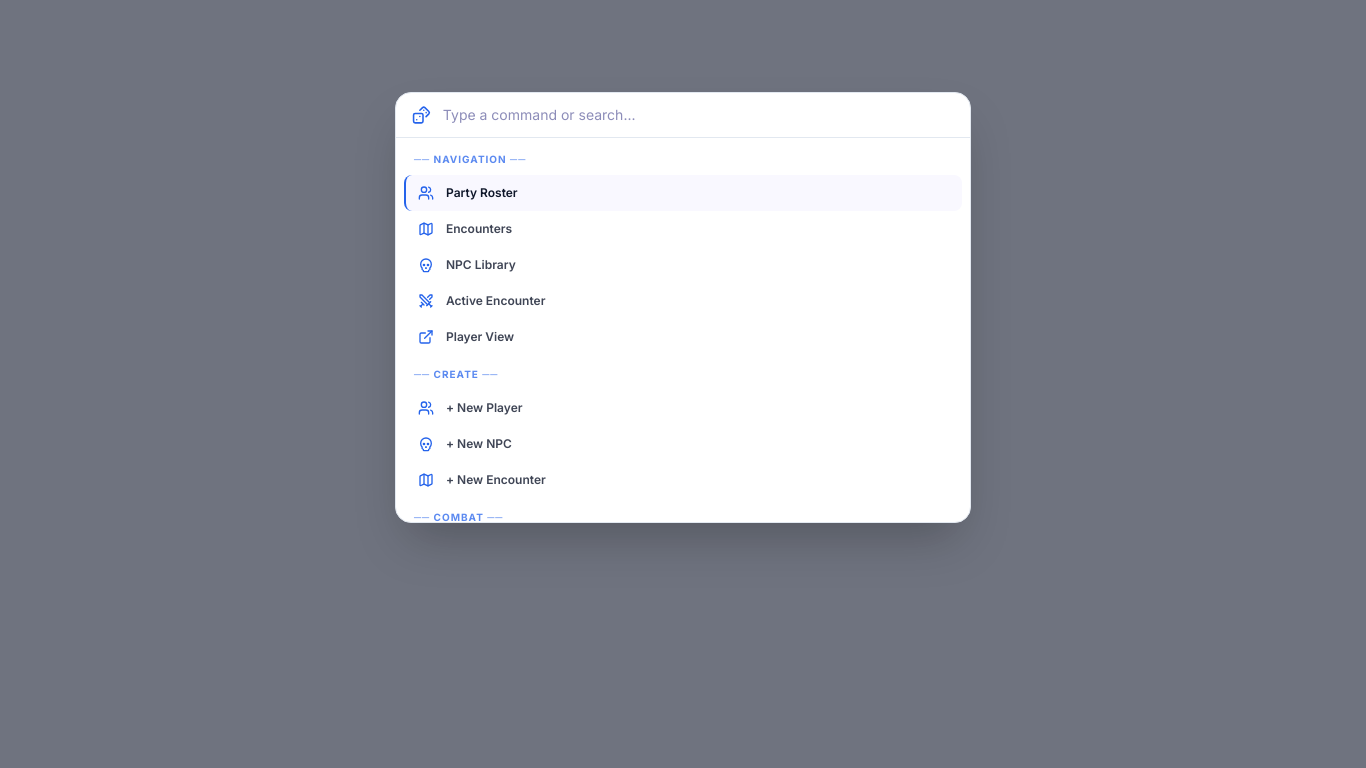
CommandPalette › typing 2+ characters shows matching condition in search results
Type "bl" into the dropdown with placeholder "Type a command or search..." at (698, 115), box x1=443 y1=105 x2=954 y2=125
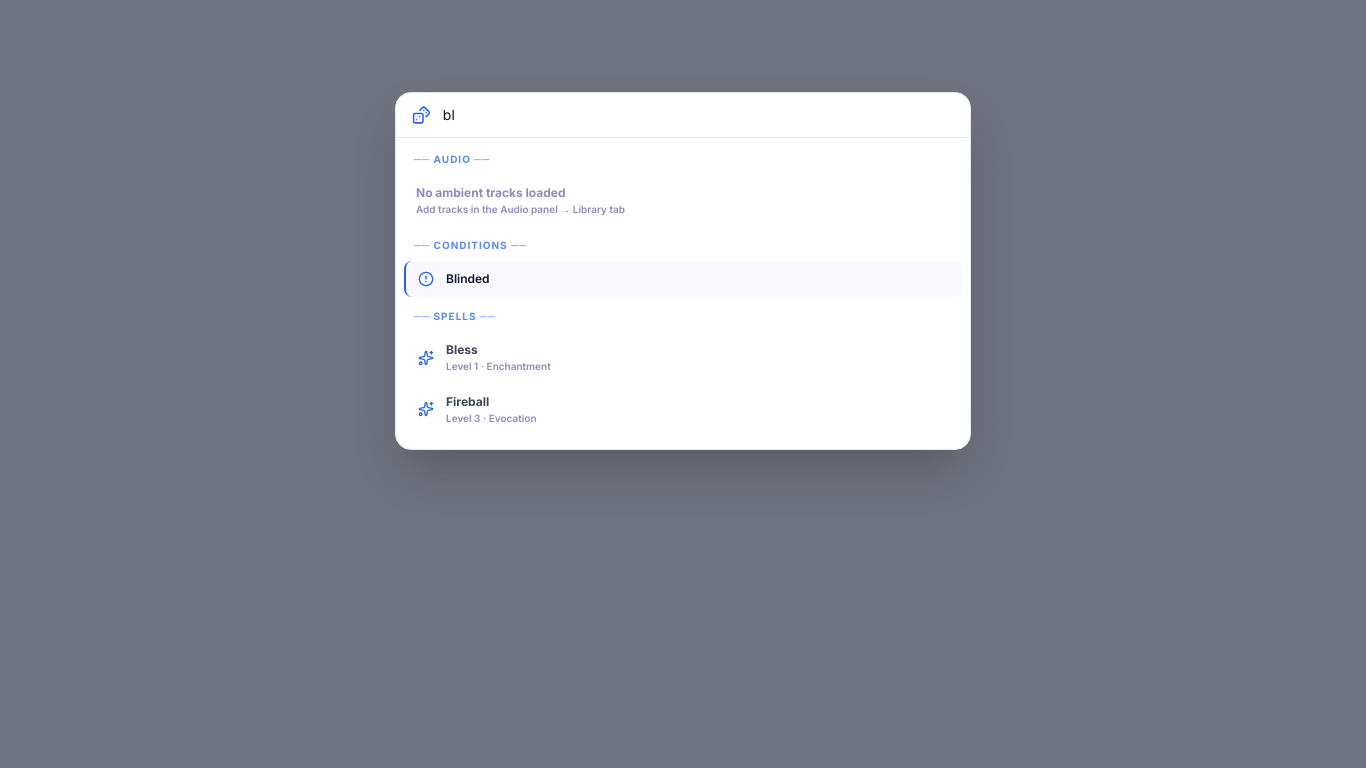
expect the text "Blinded" is shown: met, box x1=446 y1=272 x2=490 y2=288
